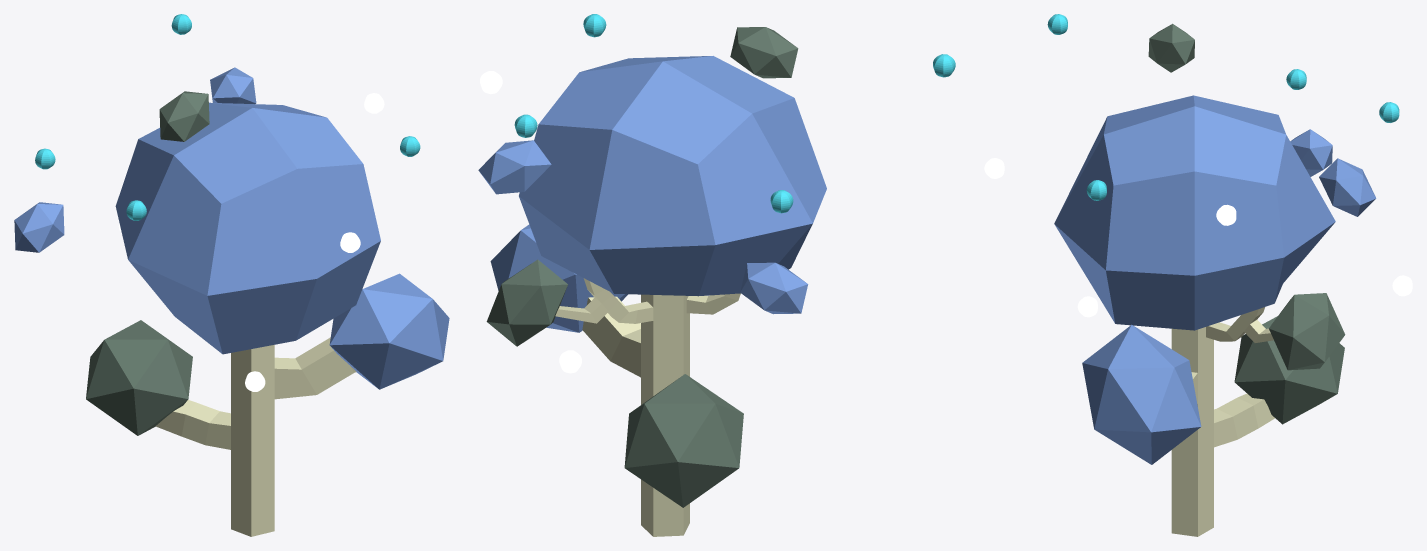
Rendered from Boom 1 GOED QUESTION MARK.fbx.
The picture shows the model from 3 angles, left to right: view 1: azimuth 30°, elevation 25°; view 2: azimuth 150°, elevation 25°; view 3: azimuth 270°, elevation 25°; orthographic projection. The views are drawn at different scales.
Visible parts, largest first — view 1: Bladeren 1; view 2: Bladeren 1; view 3: Bladeren 1.
Part boxes in pixels (box(x1,y1,x2,y2)): Bladeren 1: box(14, 14, 449, 536); Bladeren 1: box(478, 14, 955, 536); Bladeren 1: box(984, 14, 1412, 536).
Bounding box in the file's own units: 369 × 441 × 368.
